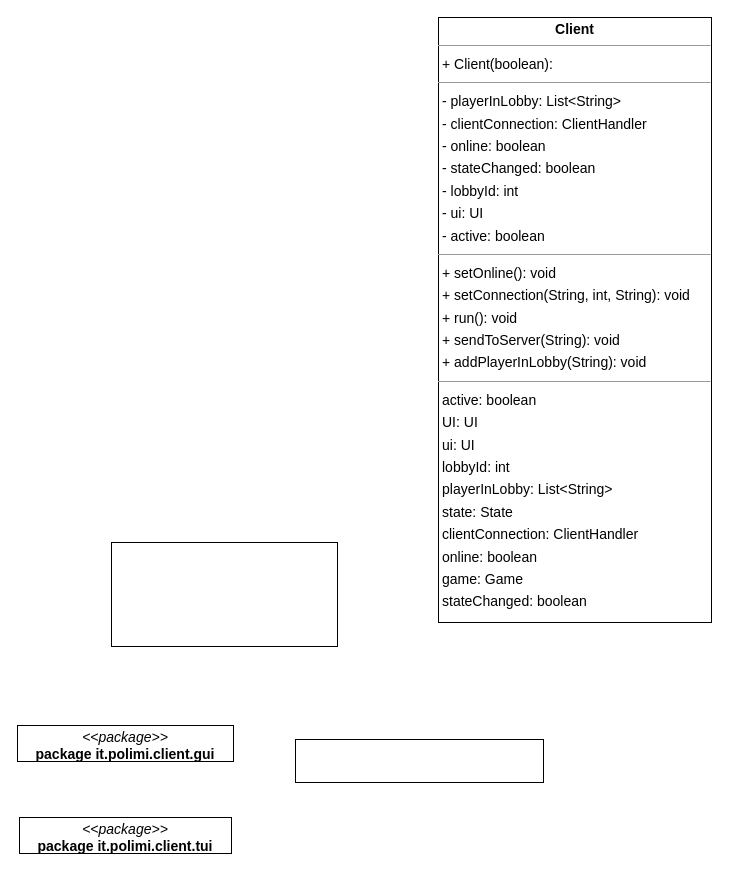
Some shapes in this 729 by 871 pixel diagram are drawn without their labels. The centre of each missing label's shape, as x and y in pixels:
<<interface>> UI + update(): void + printServerMessage(String): void: (224,594)
<<package>> package it.polimi.client.network: (419,760)
